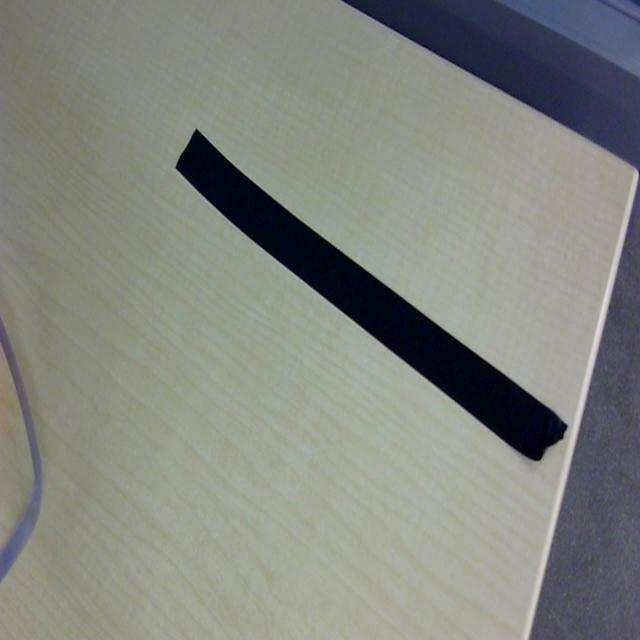tape: (174, 124, 566, 463)
